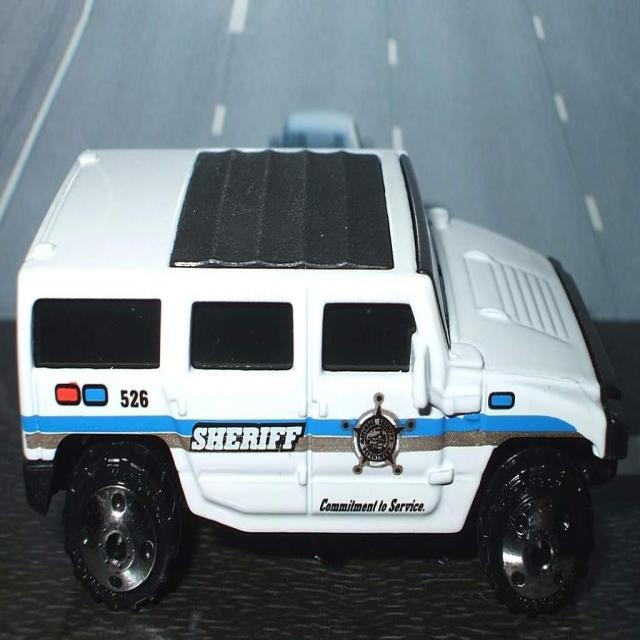car: (10, 120, 609, 614)
